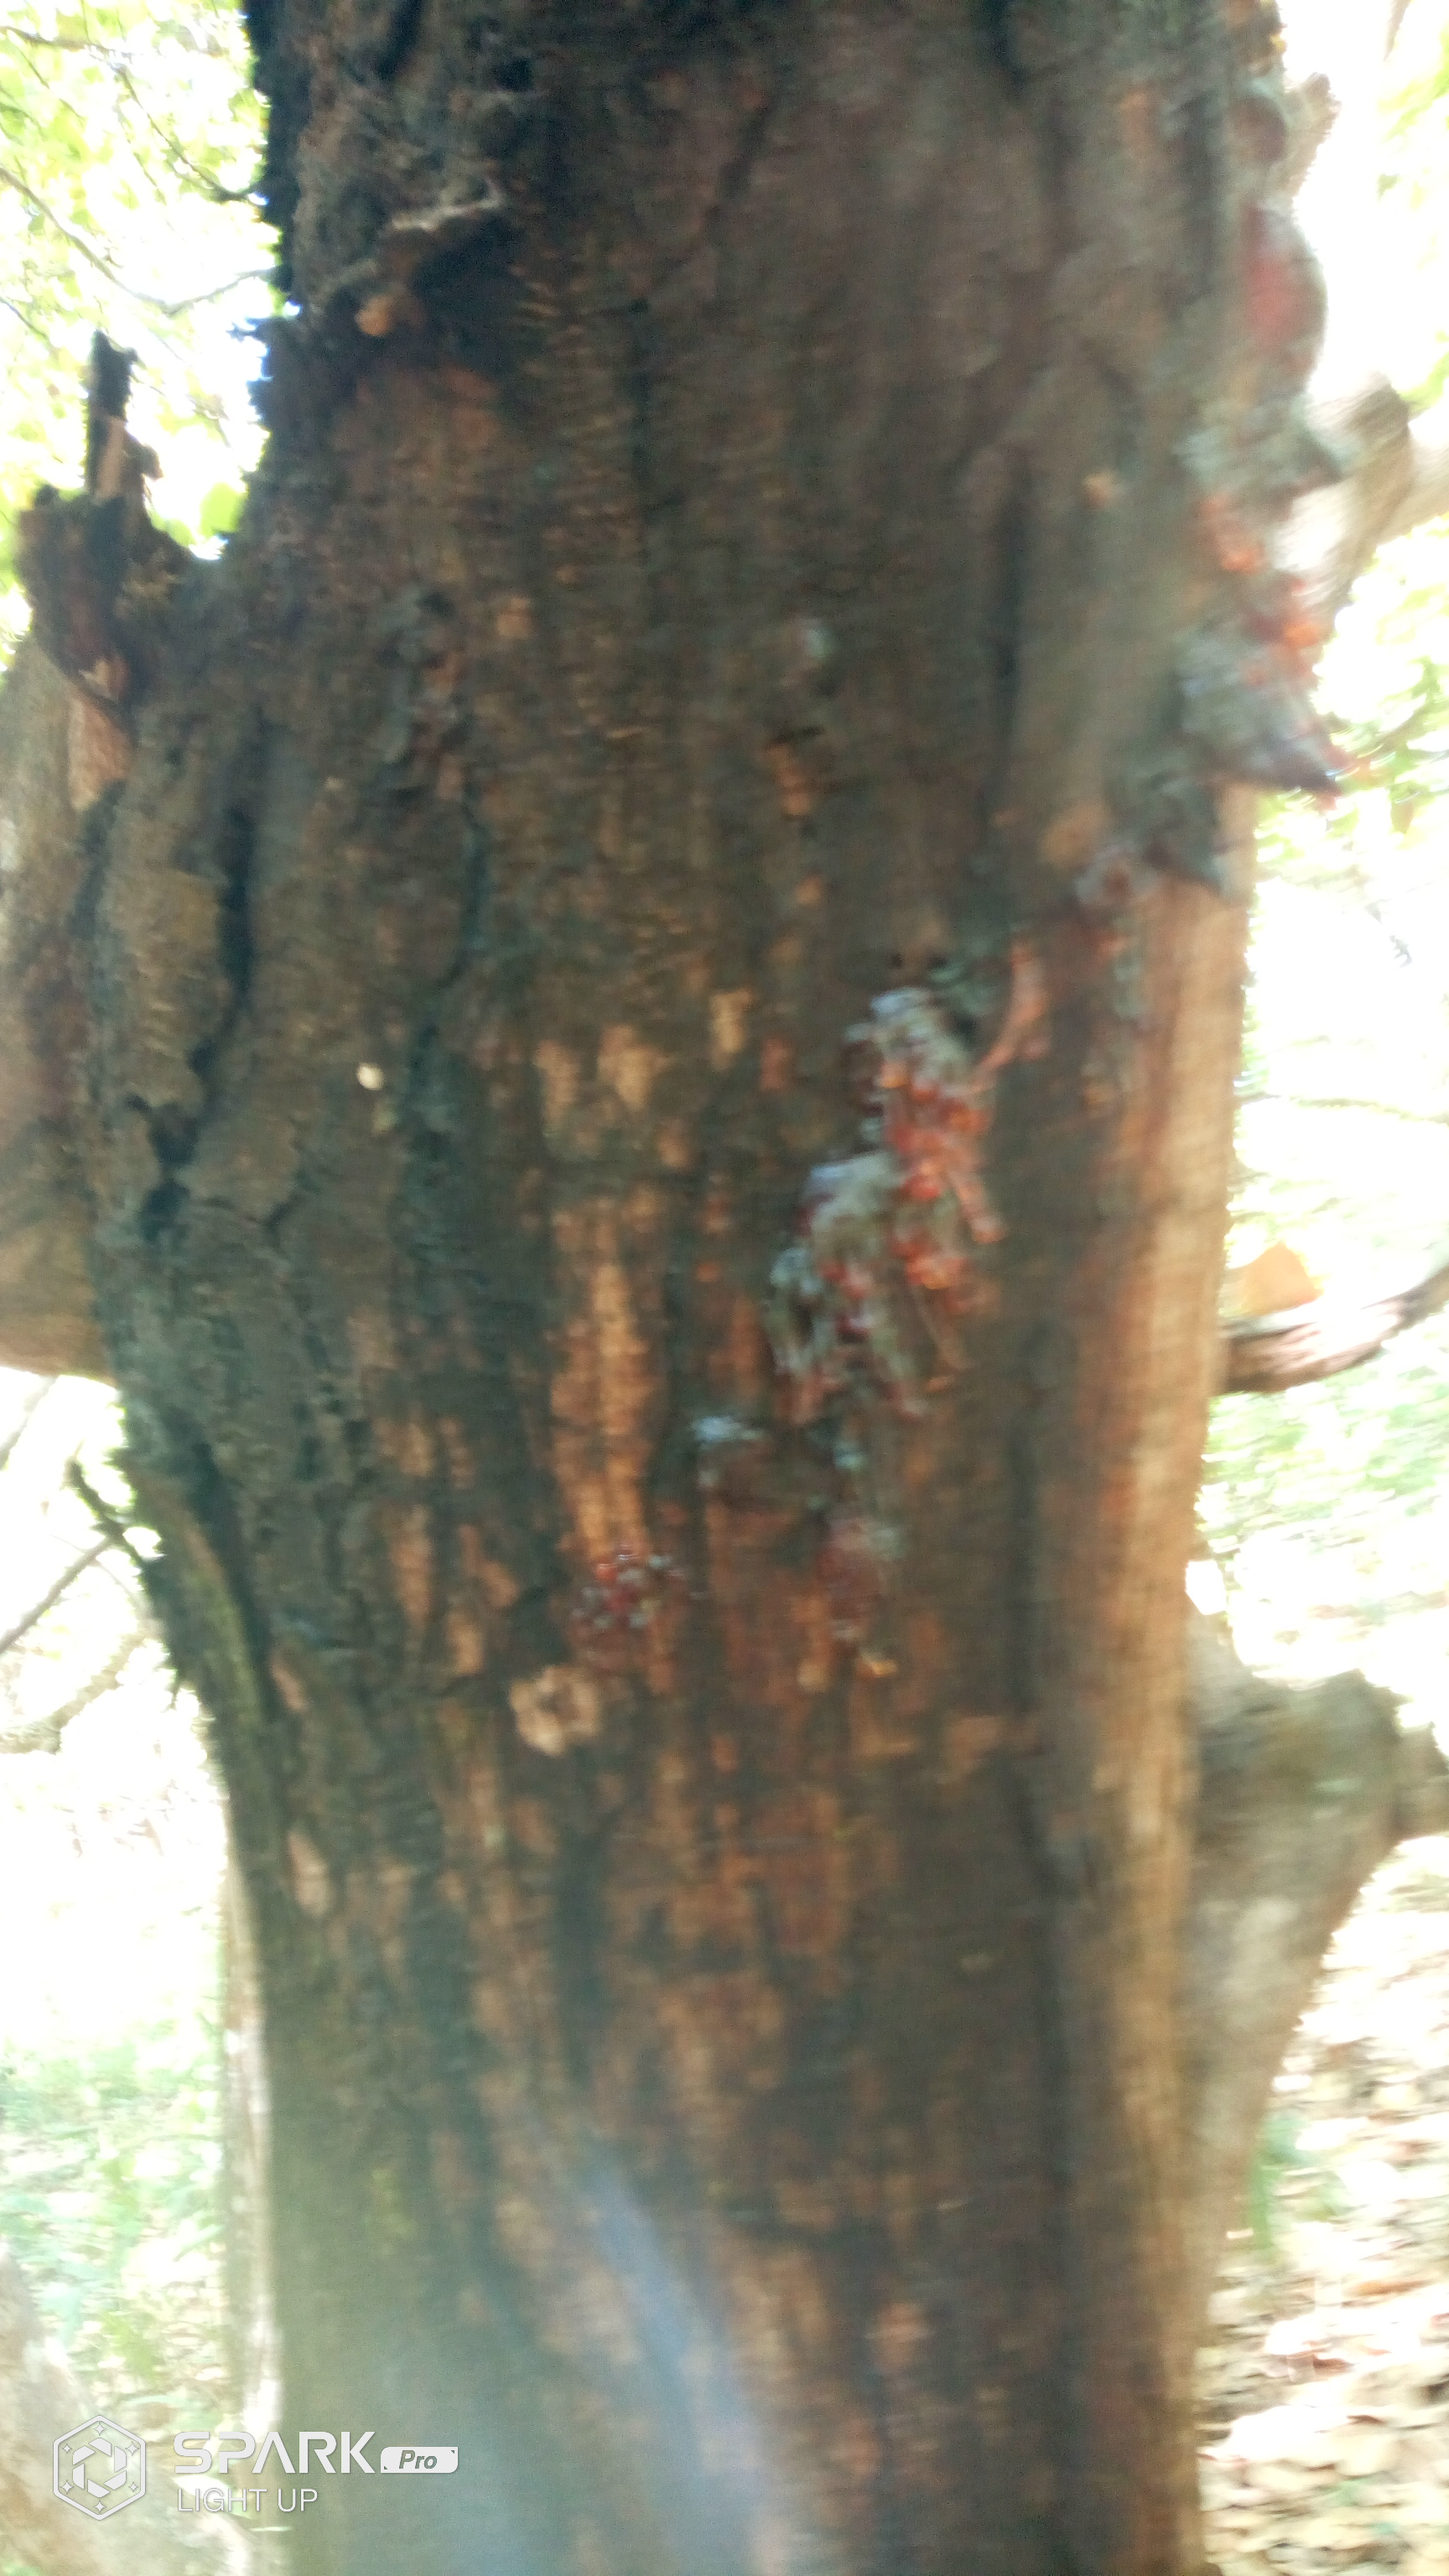Gommose: (129, 345, 1256, 2576)
